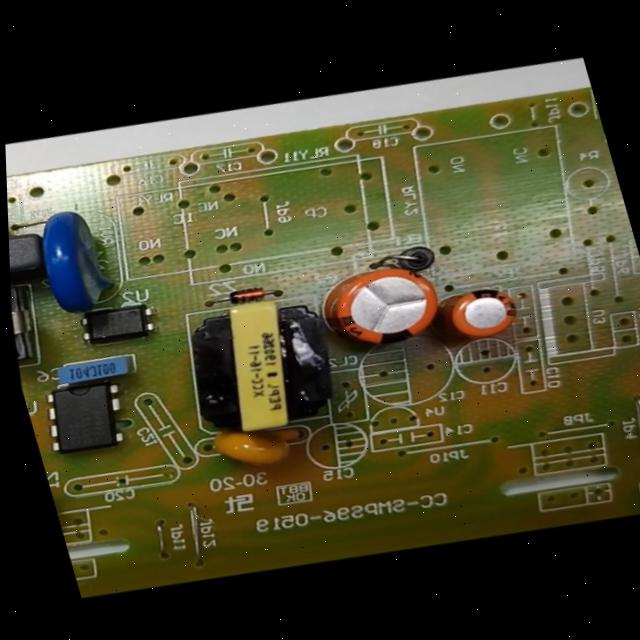Cap1: (295, 238, 464, 377)
Cap2: (422, 268, 540, 362)
MOSFET: (23, 361, 146, 471)
Mov: (15, 190, 142, 331)
Transformer: (156, 269, 366, 468)
